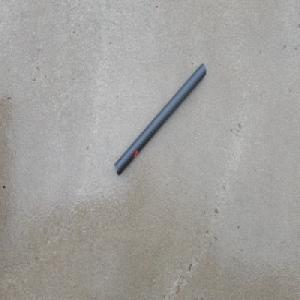LuggagePart: (114, 62, 206, 177)
